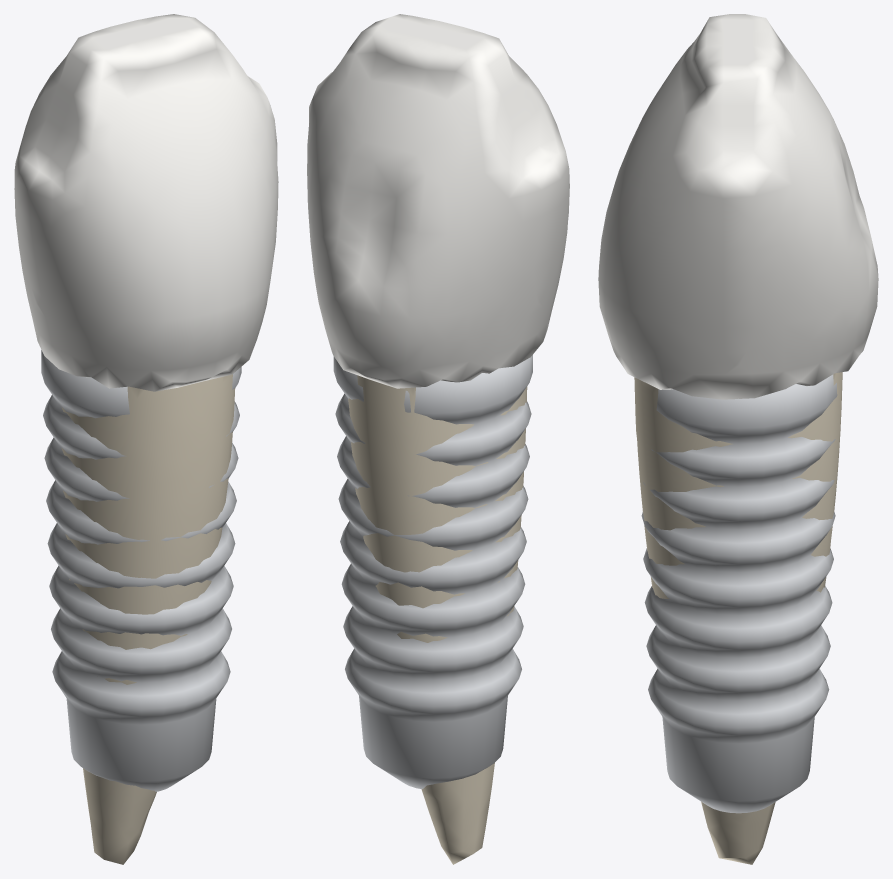
3 renders of one model, left to right at view 1: azimuth 30°, elevation 25°; view 2: azimuth 150°, elevation 25°; view 3: azimuth 270°, elevation 25°, orthographic. The views are drawn at different scales.
Visible parts, largest first — view 1: crown, implant, root; view 2: crown, implant, root; view 3: crown, implant, root.
Part boxes in pixels (bbox=[...]): crown: bbox=[14, 14, 278, 391]; implant: bbox=[41, 350, 241, 791]; root: bbox=[61, 374, 235, 864]; crown: bbox=[307, 14, 569, 388]; implant: bbox=[333, 355, 532, 788]; root: bbox=[348, 375, 527, 864]; crown: bbox=[598, 14, 878, 399]; implant: bbox=[641, 374, 837, 813]; root: bbox=[634, 372, 842, 864].
Bounding box in the file's own units: 4.74 × 15.42 × 4.68.
